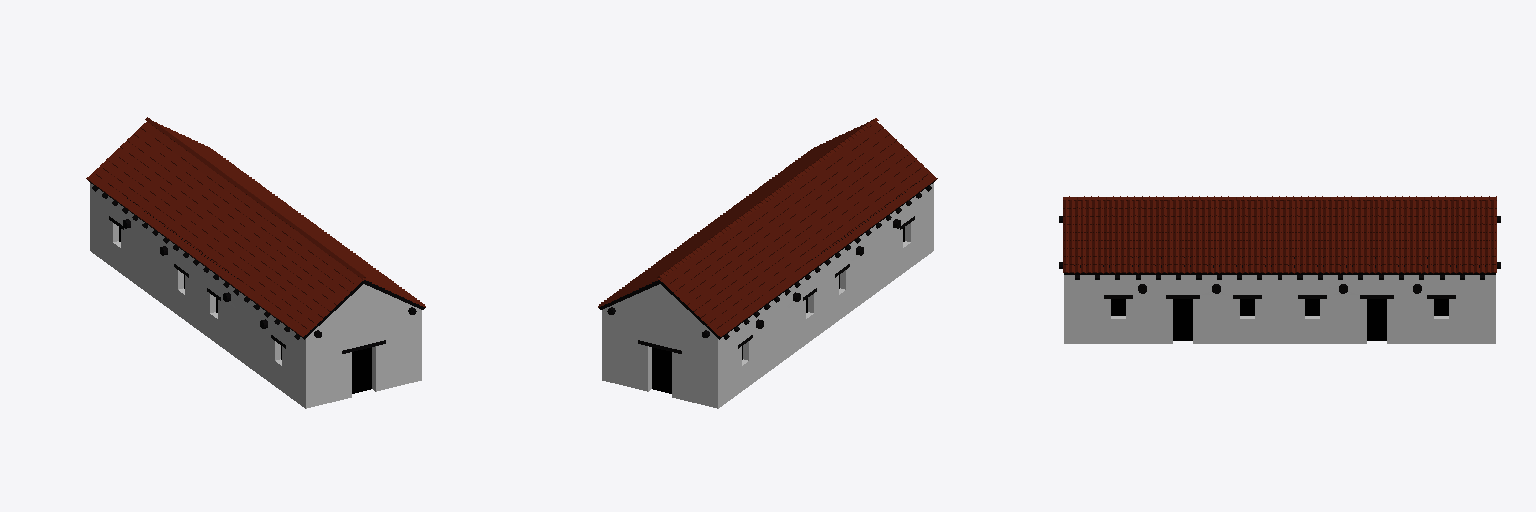
File: monjerio.obj
3 views of the same model, side by side, from view 1: azimuth 30°, elevation 25°; view 2: azimuth 150°, elevation 25°; view 3: azimuth 270°, elevation 25° (orthographic).
Visible parts, largest first — view 1: 1roof.001_Plane.004, 1buildling_Cube.002, Cube; view 2: 1roof.001_Plane.004, 1buildling_Cube.002, Cube; view 3: 1roof.001_Plane.004, 1buildling_Cube.002, Cube.
Boxes of the visible parts, x1=… form: 1roof.001_Plane.004: x1=86, y1=117, x2=425, y2=336; 1buildling_Cube.002: x1=90, y1=183, x2=421, y2=408; Cube: x1=89, y1=181, x2=424, y2=339; 1roof.001_Plane.004: x1=598, y1=118, x2=937, y2=336; 1buildling_Cube.002: x1=602, y1=183, x2=933, y2=408; Cube: x1=599, y1=179, x2=934, y2=339; 1roof.001_Plane.004: x1=1063, y1=196, x2=1496, y2=273; 1buildling_Cube.002: x1=1059, y1=216, x2=1500, y2=343; Cube: x1=1064, y1=257, x2=1495, y2=279.
Size of the model in its own units: 21.45 by 19.51 by 65.58.